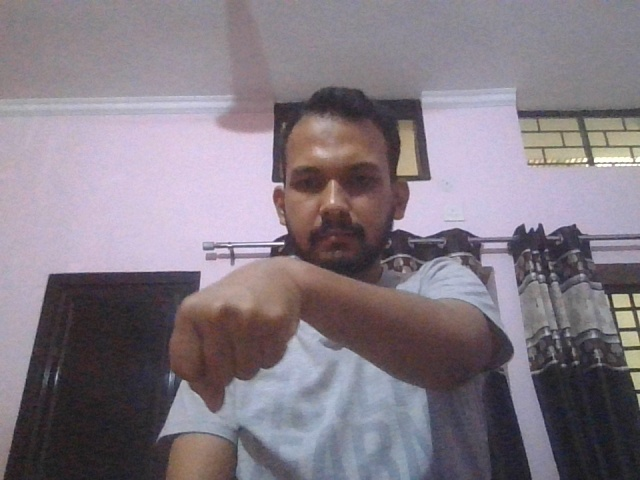yes: (169, 257, 303, 413)
